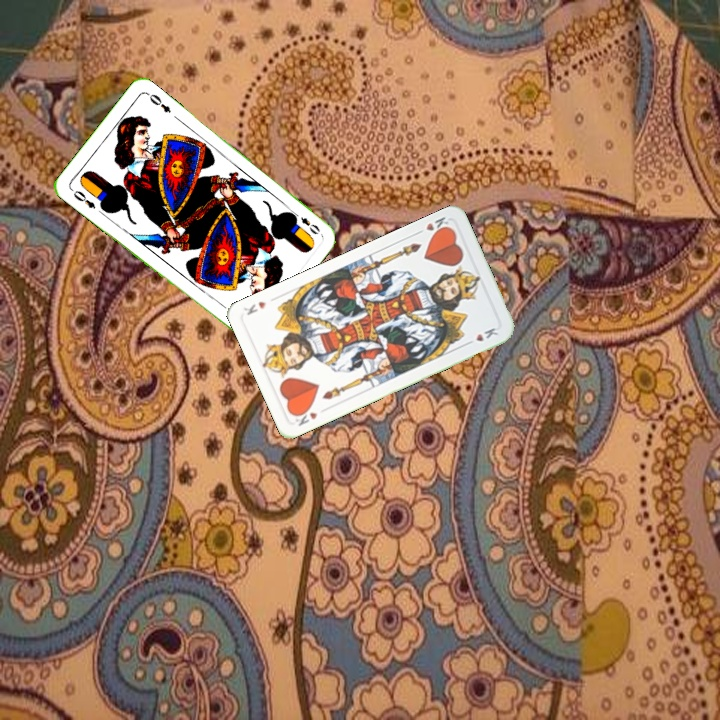EO: (288, 207, 323, 237), (67, 185, 98, 211)
HK: (412, 213, 452, 238), (288, 404, 320, 429)
